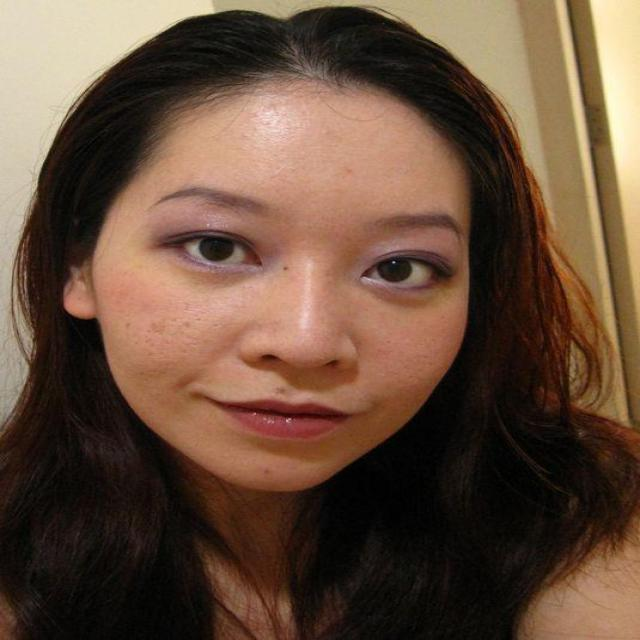redness: (285, 266, 334, 358)
